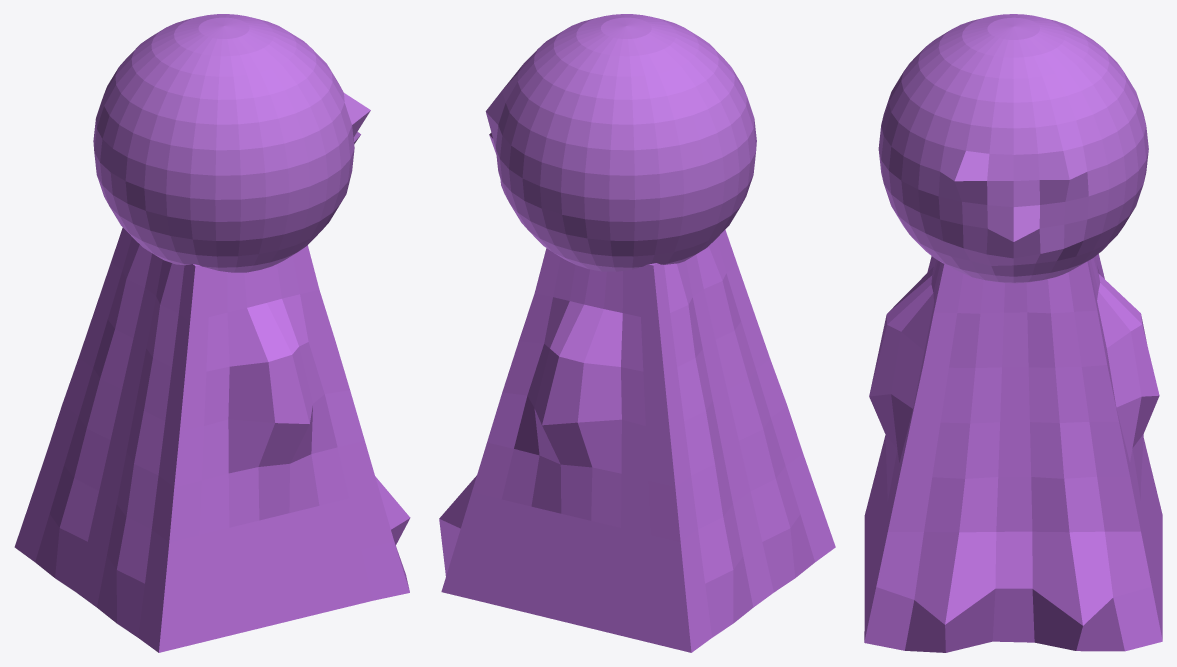
File: player-purple.glb
The picture shows the model from 3 angles, left to right: view 1: azimuth 30°, elevation 25°; view 2: azimuth 150°, elevation 25°; view 3: azimuth 270°, elevation 25°; orthographic projection. The views are drawn at different scales.
Parts seen in each view (by area): view 1: Cube, Sphere; view 2: Cube, Sphere; view 3: Cube, Sphere.
Boxes of the visible parts, bbox=[...] form: Cube: bbox=[14, 227, 410, 652]; Sphere: bbox=[93, 14, 370, 272]; Cube: bbox=[439, 229, 835, 652]; Sphere: bbox=[485, 14, 756, 271]; Cube: bbox=[864, 254, 1162, 652]; Sphere: bbox=[878, 14, 1148, 283].
Size of the model in its own units: 2.57 by 4.58 by 2.21.
